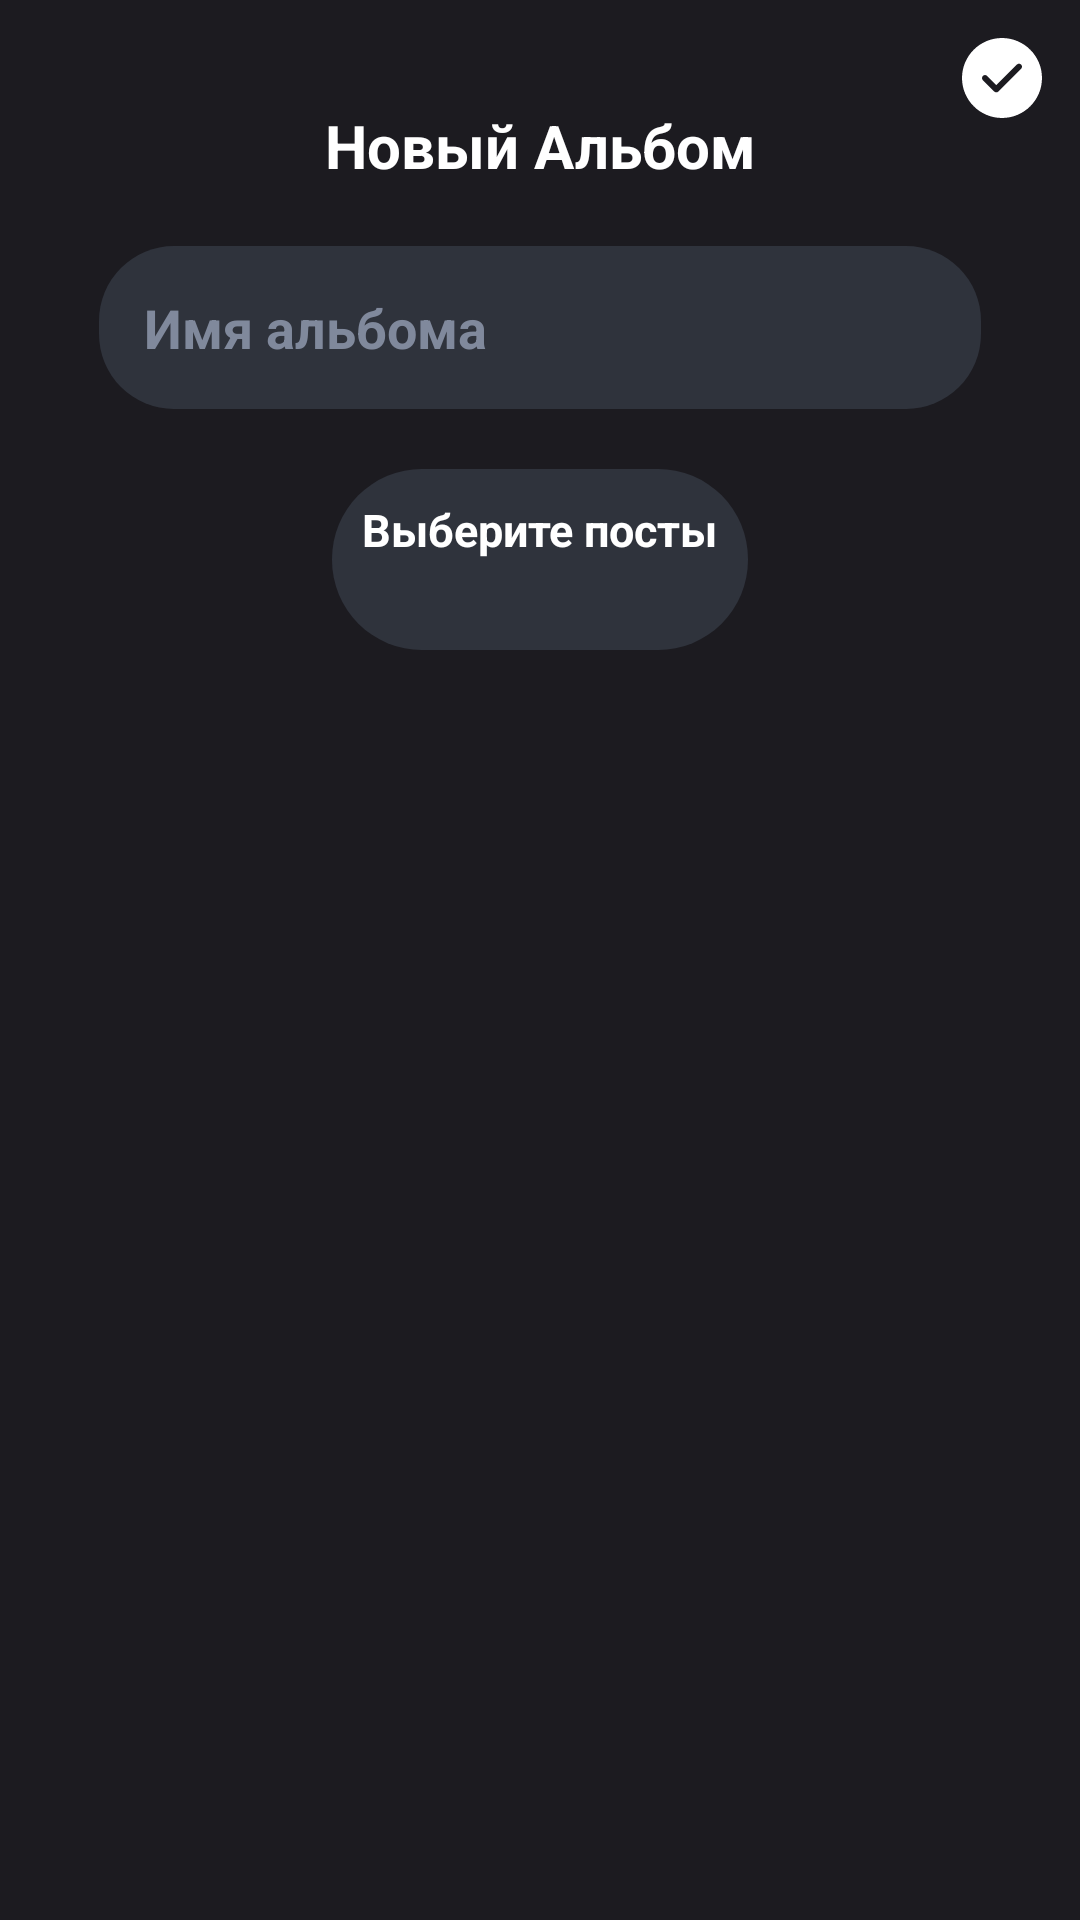

Point at icon controls on the screen. Image size 1080x1920, points as point (x, y).
confirm: point (1002, 78)
